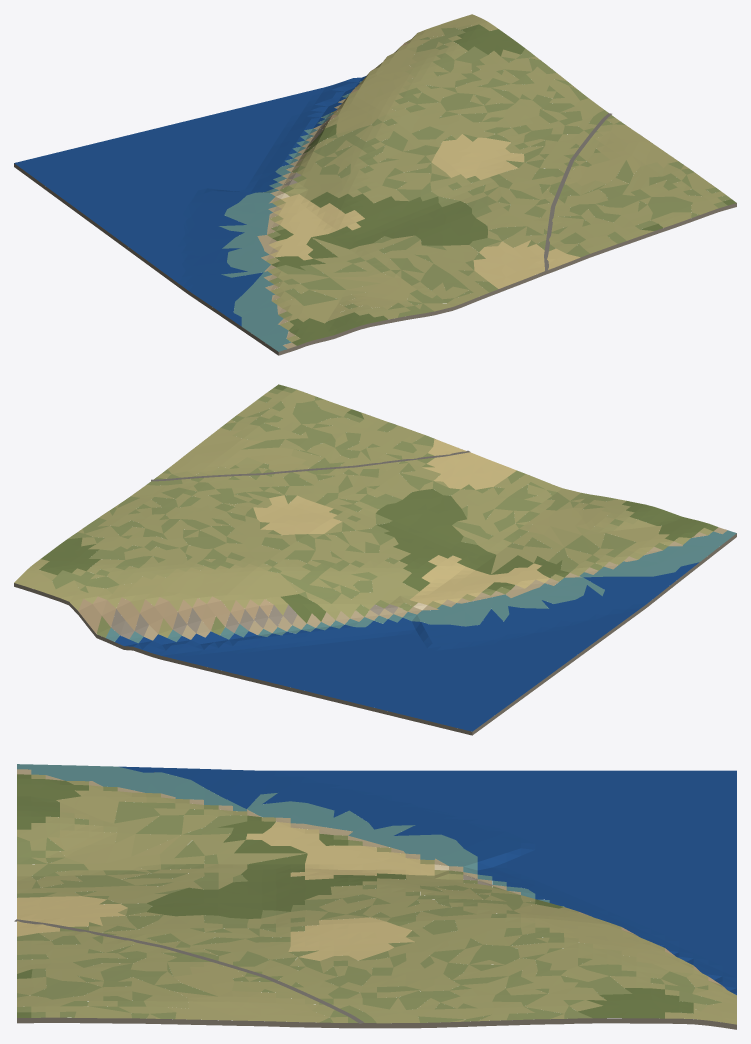
Rendered from parca_-3_-2-uzak.glb.
3 views of the same model, one above another, from view 1: azimuth 30°, elevation 25°; view 2: azimuth 150°, elevation 25°; view 3: azimuth 270°, elevation 25° (orthographic). The views are drawn at different scales.
Parts seen in each view (by area): view 1: parca_-3_-2_arazi_uzak, parca_-3_-2_yollar_uzak; view 2: parca_-3_-2_arazi_uzak, parca_-3_-2_yollar_uzak; view 3: parca_-3_-2_arazi_uzak, parca_-3_-2_yollar_uzak.
Part boxes in pixels (x1=…): parca_-3_-2_arazi_uzak: x1=14, y1=14, x2=736, y2=355; parca_-3_-2_yollar_uzak: x1=544, y1=113, x2=611, y2=270; parca_-3_-2_arazi_uzak: x1=14, y1=384, x2=736, y2=735; parca_-3_-2_yollar_uzak: x1=151, y1=450, x2=470, y2=481; parca_-3_-2_arazi_uzak: x1=17, y1=764, x2=736, y2=1029; parca_-3_-2_yollar_uzak: x1=14, y1=919, x2=364, y2=1023.
Size of the model in its own units: 1004 by 95.83 by 1004.
